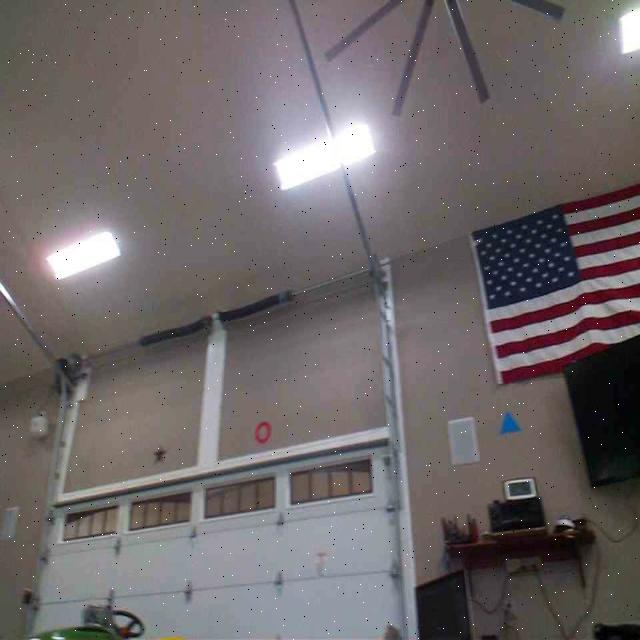ring_red: (254, 419, 272, 442)
star_black: (152, 447, 166, 463)
triangle_blue: (500, 412, 522, 436)
